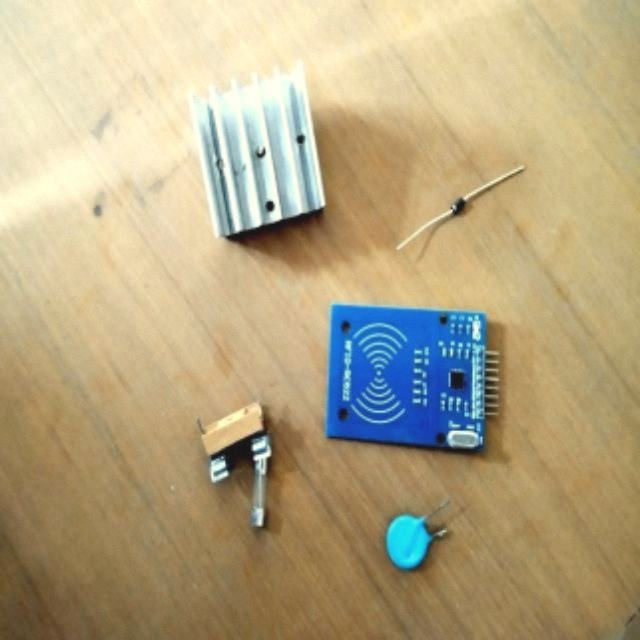capacitor: (386, 515, 428, 567)
